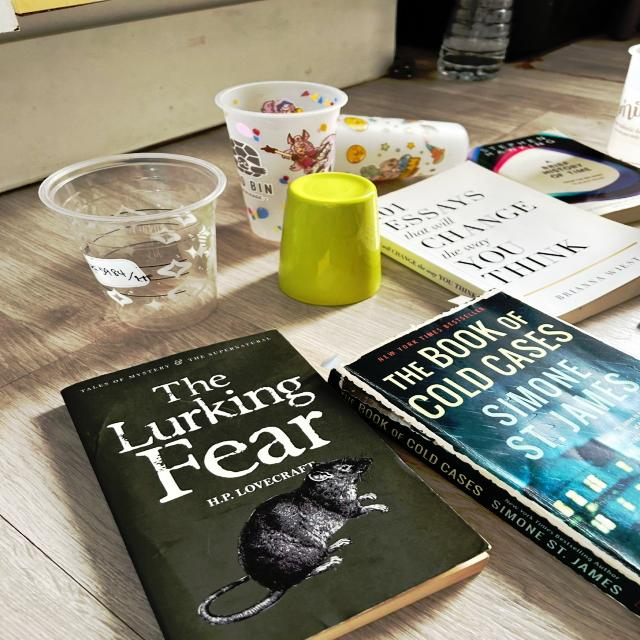Book: (62, 331, 488, 640), (328, 288, 639, 617), (379, 160, 639, 322), (474, 128, 639, 223)
Plastic Cup: (40, 154, 226, 329), (216, 82, 347, 242), (333, 115, 468, 181), (608, 45, 639, 166)
WaterGlass: (279, 172, 381, 306)
